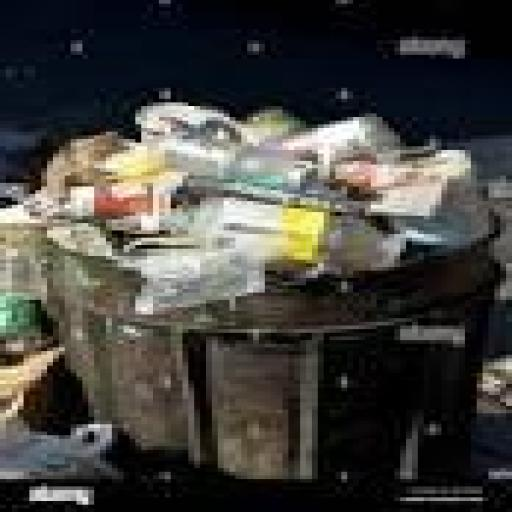poubelle_pleine: (16, 54, 510, 510)
